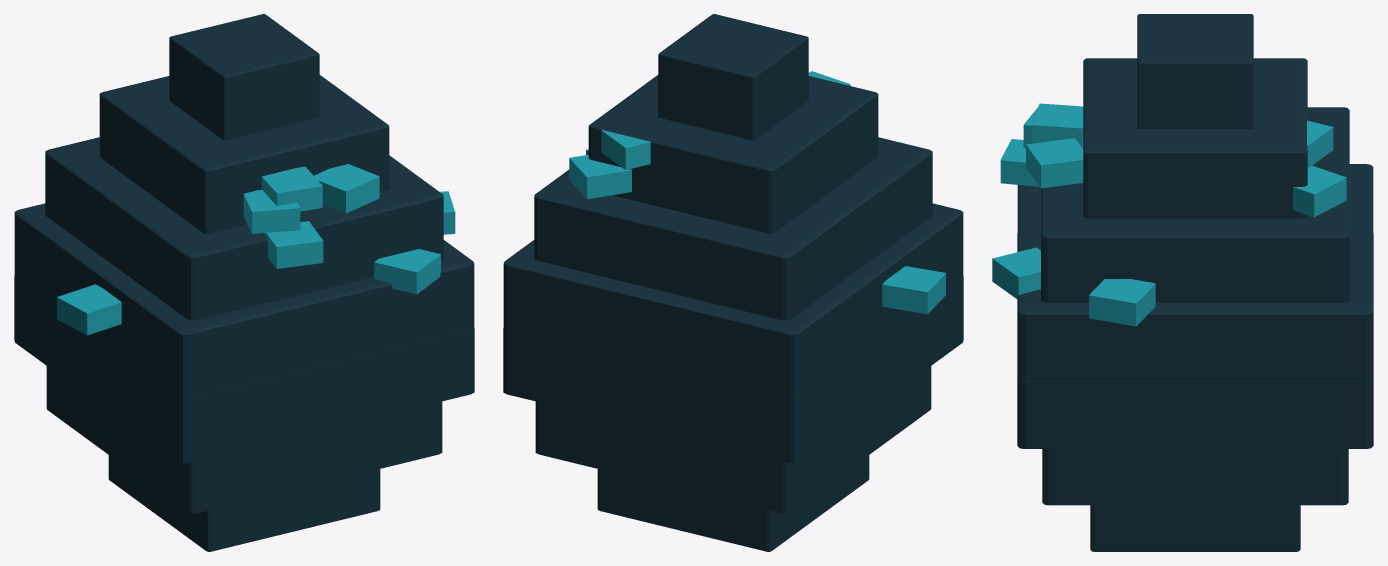
File: egg-abyss.glb
3 renders of one model, left to right at view 1: azimuth 30°, elevation 25°; view 2: azimuth 150°, elevation 25°; view 3: azimuth 270°, elevation 25°, orthographic. The views are drawn at different scales.
Visible parts, largest first — view 1: body; view 2: body; view 3: body.
Part boxes in pixels (<box>): body: <box>14,14,474,551</box>; body: <box>503,14,963,551</box>; body: <box>992,14,1373,551</box>.
Size of the model in its own units: 0.8518 by 1 by 0.7341.
